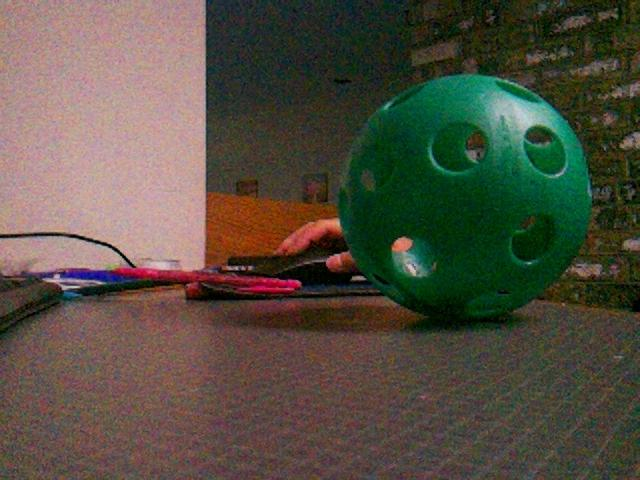Green: (337, 74, 594, 320)
